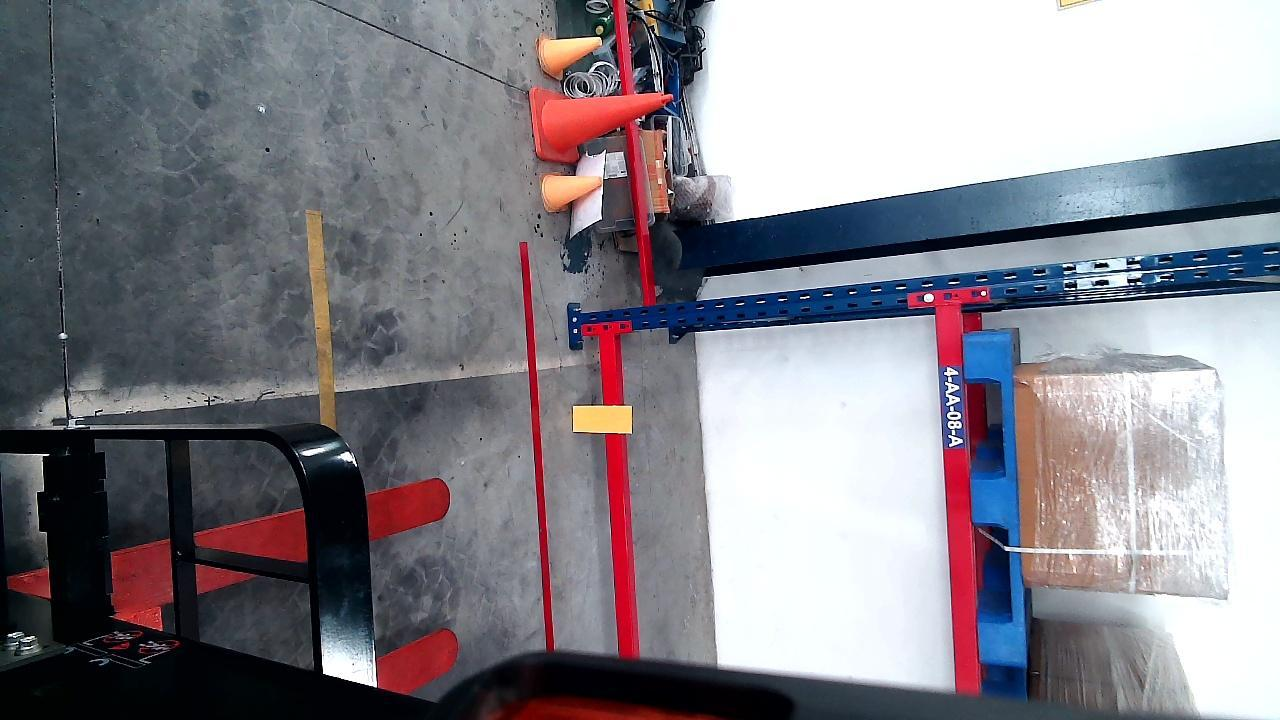red_line: (518, 230, 554, 657)
yellow_line: (305, 206, 336, 429)
